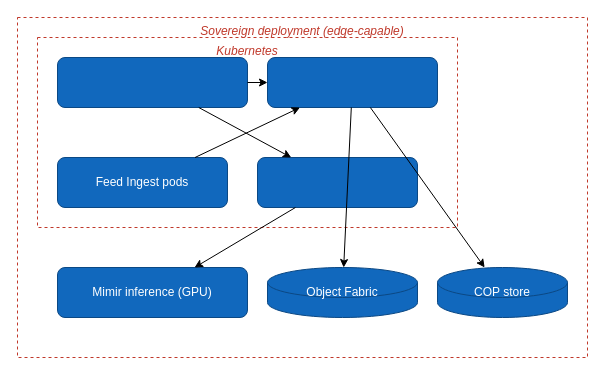
The diagram is 605 pixels wide and 375 high, and some of its shapes have lost their labels. Here are the shapes that lost their labels. From the top down, the centre of each, then its label:
At [152,82]: "Heimdall Console pods".
At [352,82]: "Fusion Engine pods".
At [337,182]: "COA Engine pods".
